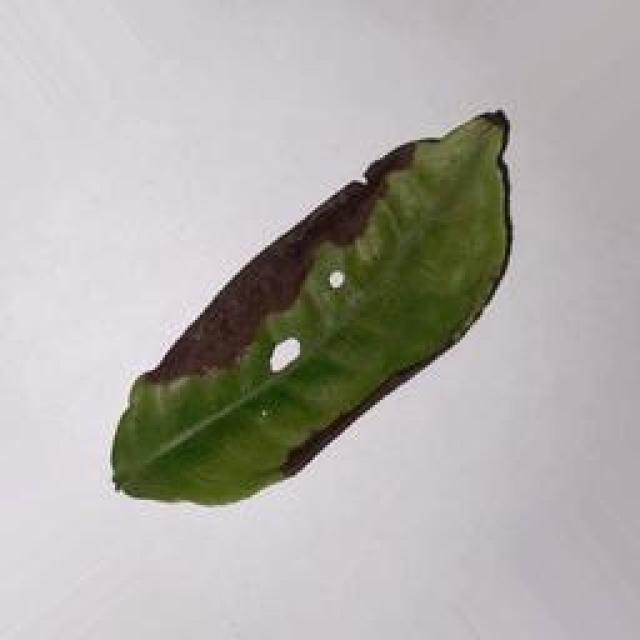Brown Blight: (99, 101, 532, 502)
